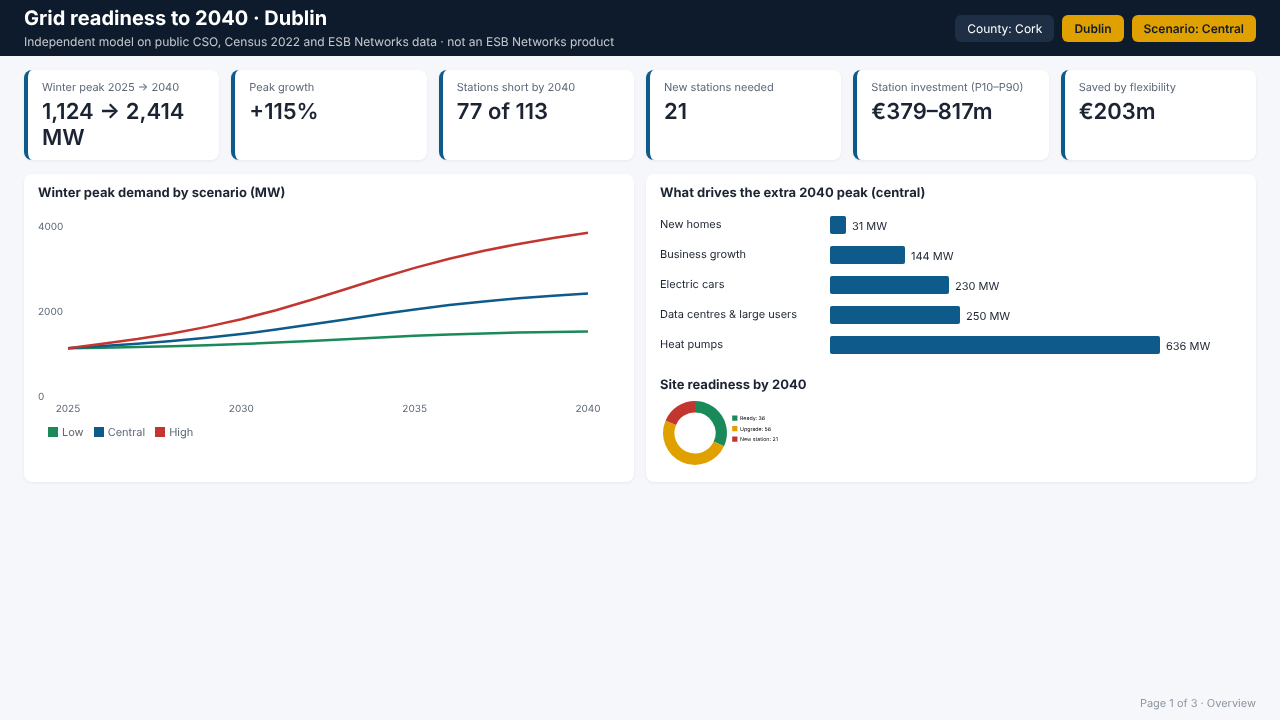

What the dashboard file says about the page in this screenshot:
{"tool":"powerbi","page":{"name":"Overview","canvas":[1280,720],"ordinal":0},"visuals":[{"type":"textbox","box":[20,8,720,76],"z":1000},{"type":"slicer","fields":{"Values":["dim_county.County"]},"box":[760,14,230,62],"z":2000},{"type":"slicer","fields":{"Values":["fact_demand.Scenario"]},"box":[1000,14,260,62],"z":3000},{"type":"card","fields":{"Values":["_Measures.Peak 2025 MW"]},"box":[20,92,196.7,100],"z":4000},{"type":"card","fields":{"Values":["_Measures.Peak 2040 MW"]},"box":[228.7,92,196.7,100],"z":5000},{"type":"card","fields":{"Values":["_Measures.Peak Growth %"]},"box":[437.3,92,196.7,100],"z":6000},{"type":"card","fields":{"Values":["_Measures.Stations Short 2040"]},"box":[646,92,196.7,100],"z":7000},{"type":"card","fields":{"Values":["_Measures.New Stations Needed"]},"box":[854.7,92,196.7,100],"z":8000},{"type":"card","fields":{"Values":["_Measures.Cost Range"]},"box":[1063.3,92,196.7,100],"z":9000},{"type":"lineChart","title":"Winter peak demand by model scenario (MW)","fields":{"Category":["dim_year.Year"],"Series":["fact_demand.Scenario"],"Y":["_Measures.Peak MW"]},"box":[20,210,610,490],"z":10000},{"type":"clusteredBarChart","title":"What adds demand by 2040 (MW)","fields":{"Category":["fact_demand.Driver"],"Y":["_Measures.Extra Demand MW"]},"box":[645,210,330,490],"z":11000},{"type":"donutChart","title":"Station status in 2040 (model)","fields":{"Category":["dim_station.Status2040"],"Y":["_Measures.Stations"]},"box":[990,210,270,490],"z":12000}]}

Visuals, with their boxes in screenshot pixels (x1, y1, x2, y2), scaled from the page's 1280x720 canvas onto the 1280x720 screenshot:
textbox: bbox=(20, 8, 740, 84)
slicer - dim_county.County: bbox=(760, 14, 990, 76)
slicer - fact_demand.Scenario: bbox=(1000, 14, 1260, 76)
card - _Measures.Peak 2025 MW: bbox=(20, 92, 217, 192)
card - _Measures.Peak 2040 MW: bbox=(229, 92, 425, 192)
card - _Measures.Peak Growth %: bbox=(437, 92, 634, 192)
card - _Measures.Stations Short 2040: bbox=(646, 92, 843, 192)
card - _Measures.New Stations Needed: bbox=(855, 92, 1051, 192)
card - _Measures.Cost Range: bbox=(1063, 92, 1260, 192)
"Winter peak demand by model scenario (MW)" lineChart: bbox=(20, 210, 630, 700)
"What adds demand by 2040 (MW)" clusteredBarChart: bbox=(645, 210, 975, 700)
"Station status in 2040 (model)" donutChart: bbox=(990, 210, 1260, 700)
